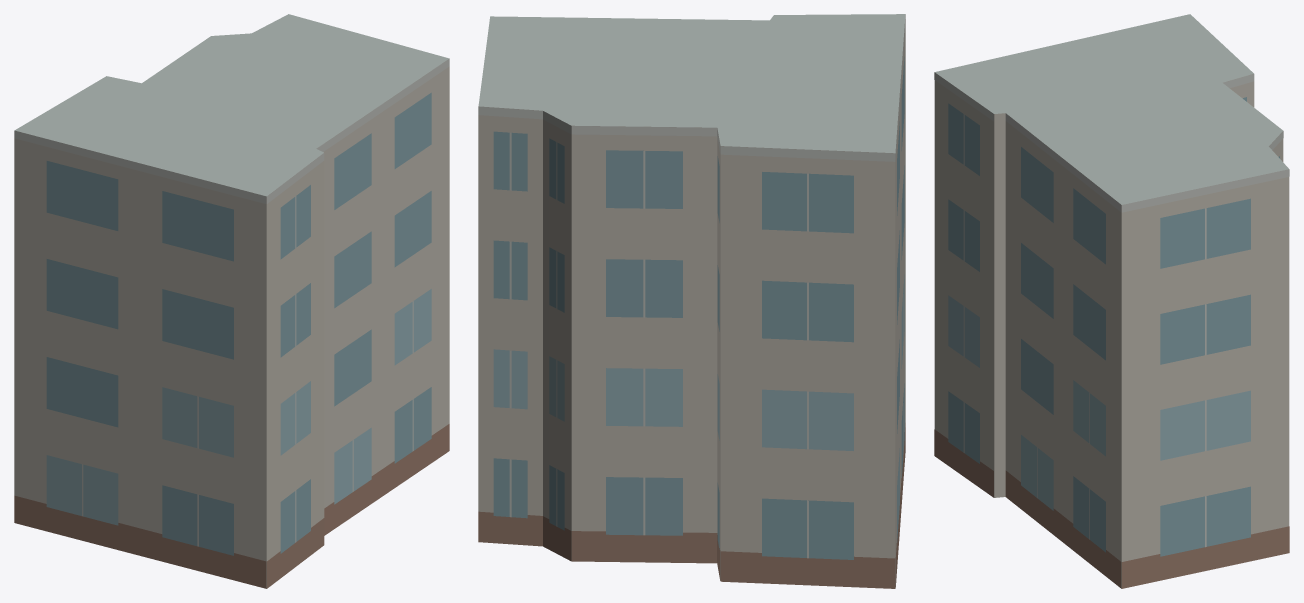
Rendered from survey-upis-32733333.glb.
3 renders of one model, left to right at view 1: azimuth 30°, elevation 25°; view 2: azimuth 150°, elevation 25°; view 3: azimuth 270°, elevation 25°, orthographic. The views are drawn at different scales.
Parts seen in each view (by area): view 1: survey-upis-32733333.tmp; view 2: survey-upis-32733333.tmp; view 3: survey-upis-32733333.tmp.
Boxes of the visible parts, box(x1,y1,x2,y2) form: survey-upis-32733333.tmp: box(14, 14, 449, 588); survey-upis-32733333.tmp: box(478, 14, 905, 588); survey-upis-32733333.tmp: box(934, 14, 1289, 588).
Size of the model in its own units: 13.03 by 12.2 by 10.23.
